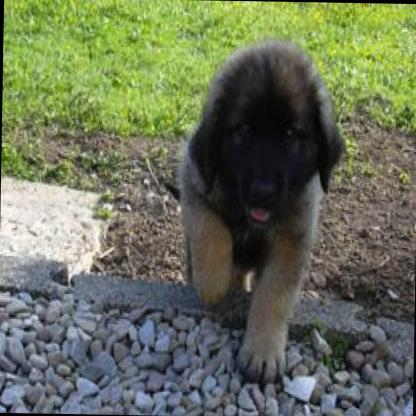Leonberg: (171, 34, 346, 382)
